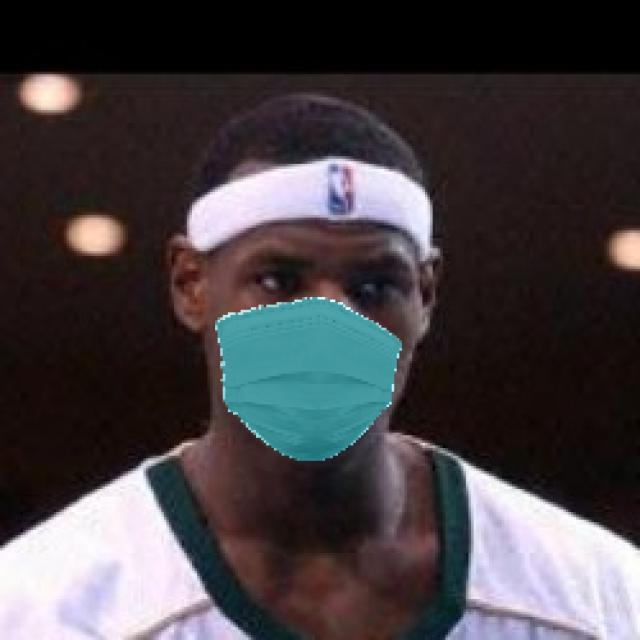mask: (213, 294, 414, 463)
